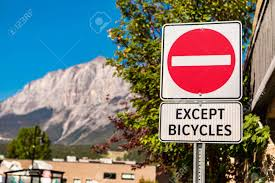sign_noentry: (160, 21, 242, 101)
